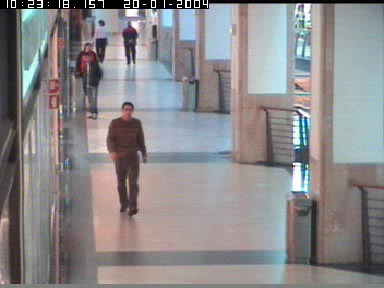person: (106, 99, 146, 216), (82, 51, 102, 119), (75, 41, 98, 95), (93, 20, 111, 62), (122, 22, 140, 64), (148, 8, 159, 39)
